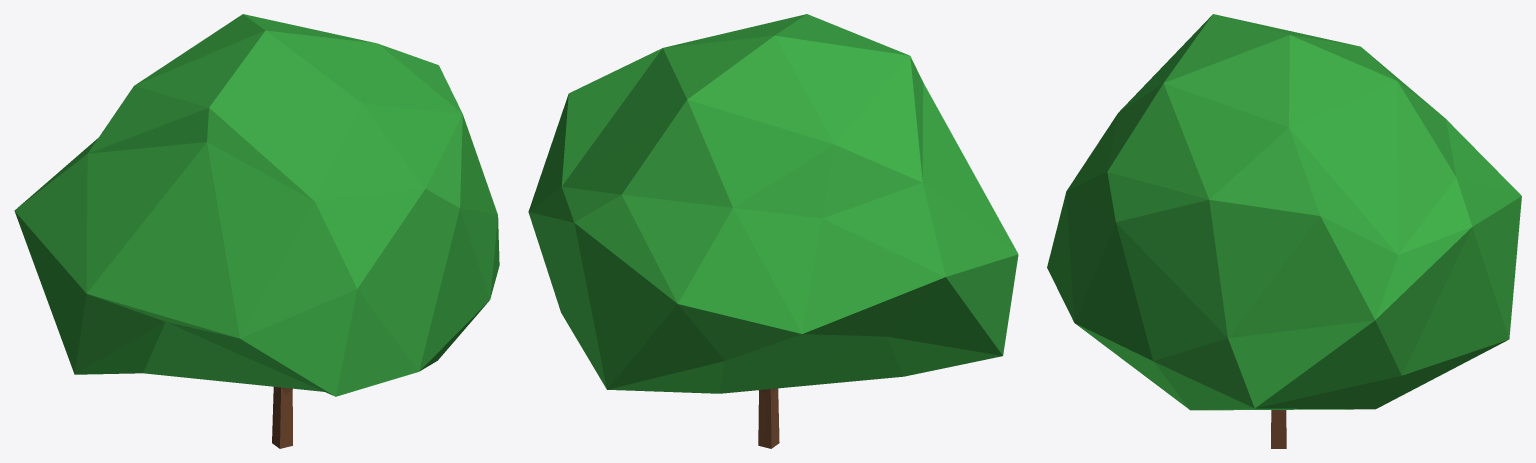
The model's file is Tree_18_Green.fbx.
The picture shows the model from 3 angles, left to right: view 1: azimuth 30°, elevation 25°; view 2: azimuth 150°, elevation 25°; view 3: azimuth 270°, elevation 25°; orthographic projection. The views are drawn at different scales.
Visible parts, largest first — view 1: Tree_18_Green_Part_1, Tree_18_Green_Part_2; view 2: Tree_18_Green_Part_1, Tree_18_Green_Part_2; view 3: Tree_18_Green_Part_1, Tree_18_Green_Part_2.
Part boxes in pixels (<box>): Tree_18_Green_Part_1: <box>14,14,499,396</box>; Tree_18_Green_Part_2: <box>272,386,292,448</box>; Tree_18_Green_Part_1: <box>528,14,1018,393</box>; Tree_18_Green_Part_2: <box>758,388,779,448</box>; Tree_18_Green_Part_1: <box>1047,14,1521,410</box>; Tree_18_Green_Part_2: <box>1271,410,1286,448</box>.
Bounding box in the file's own units: 804 × 743 × 788.
